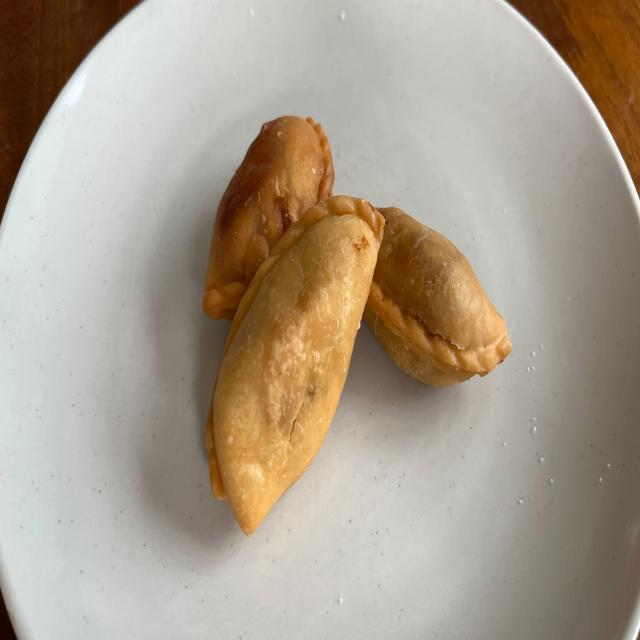karipap: (206, 196, 385, 536), (202, 116, 335, 320), (364, 207, 511, 387)
